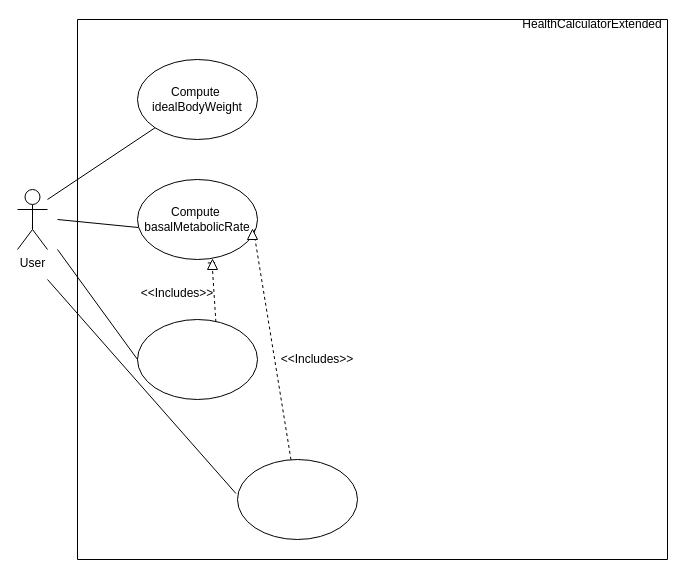
This 685x577 diagram has some shape labels left out. Each missing label, with the box of its shape:
Compute bodyFatPercentage: (236, 458, 358, 540)
Compute bodyMassWeight: (136, 318, 258, 400)
